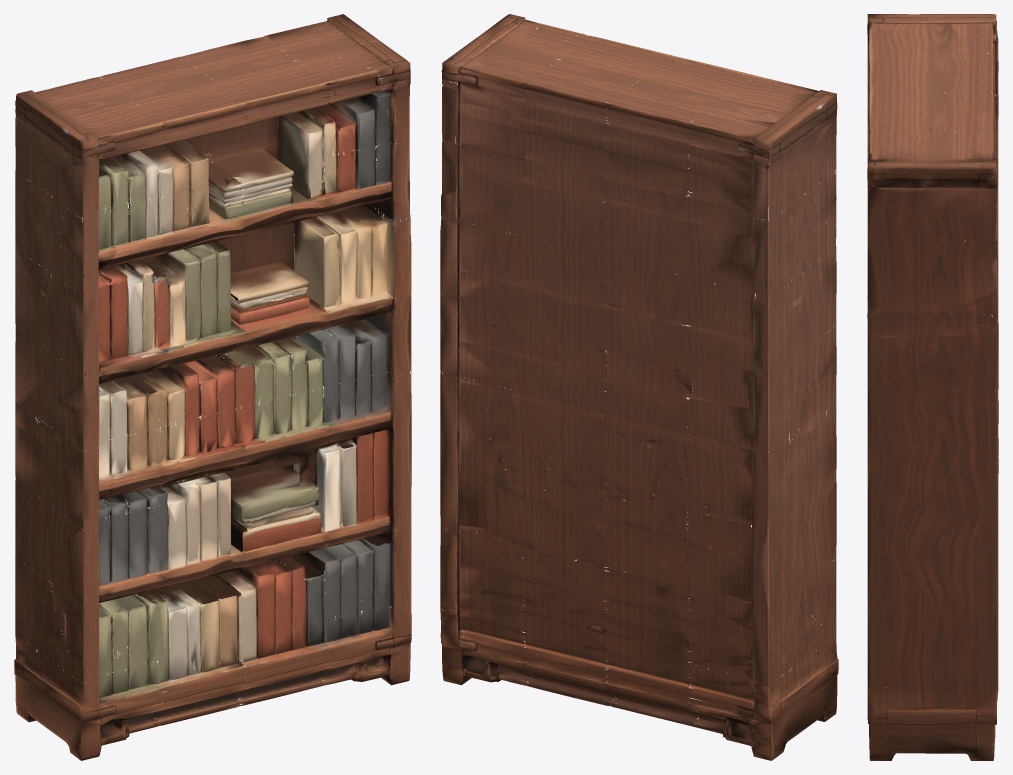
The model's file is hi3d-bookshelf.glb.
3 views of the same model, side by side, from view 1: azimuth 30°, elevation 25°; view 2: azimuth 150°, elevation 25°; view 3: azimuth 270°, elevation 25° (orthographic). The views are drawn at different scales.
Parts seen in each view (by area): view 1: bookshelf; view 2: bookshelf; view 3: bookshelf.
Boxes of the visible parts, x1,y1,x2,y2 form: bookshelf: (14, 14, 411, 760); bookshelf: (440, 14, 838, 760); bookshelf: (867, 14, 998, 760).
Size of the model in its own units: 1.79 by 3.2 by 0.6408.
Materials: 1 (1 with a texture image).
